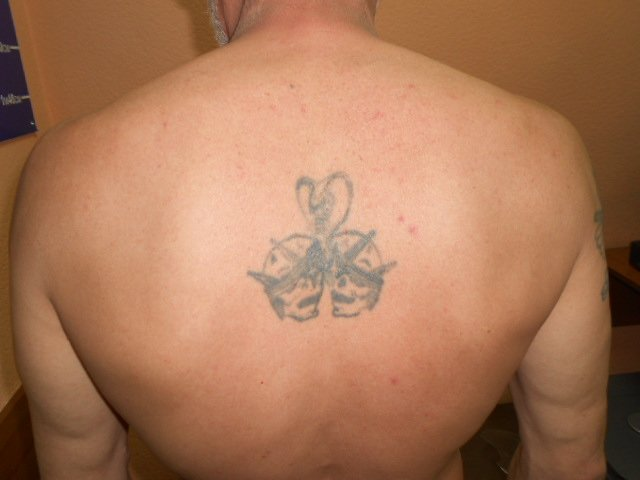tatu7_zmeya: (234, 166, 419, 351)
